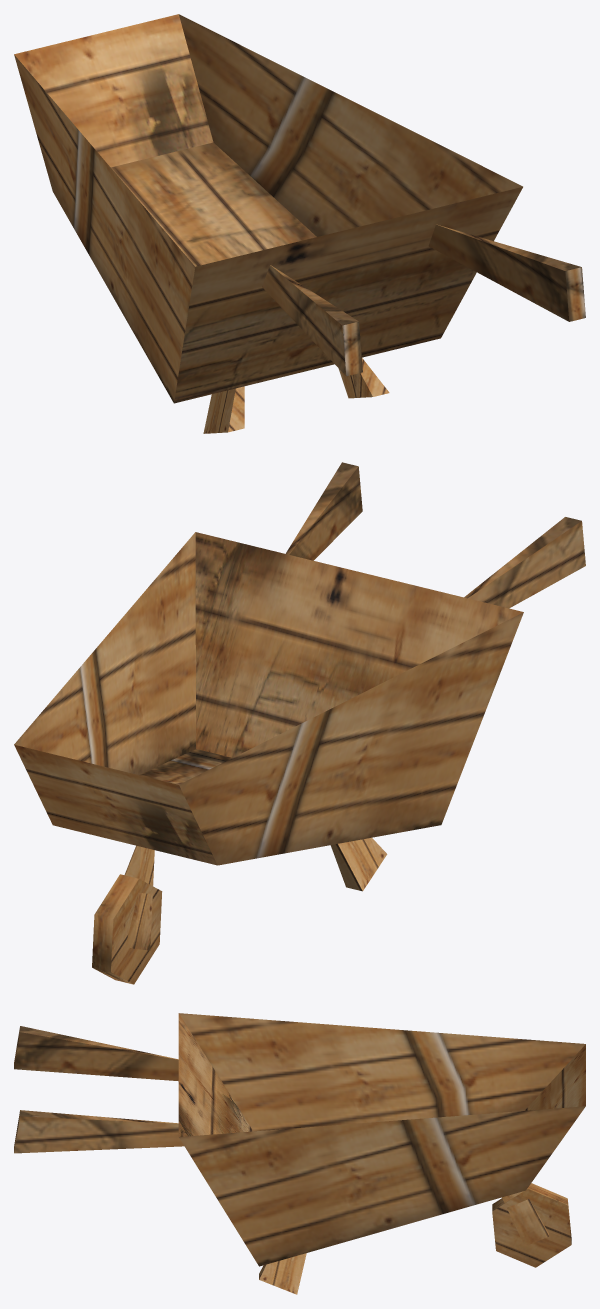
Rendered from cart.FBX.
The picture shows the model from 3 angles, top to bottom: view 1: azimuth 30°, elevation 25°; view 2: azimuth 150°, elevation 25°; view 3: azimuth 270°, elevation 25°; orthographic projection. The views are drawn at different scales.
Parts seen in each view (by area): view 1: cart; view 2: cart; view 3: cart.
Boxes of the visible parts, x1=… form: cart: x1=14, y1=14, x2=585, y2=433; cart: x1=14, y1=462, x2=585, y2=984; cart: x1=14, y1=1013, x2=585, y2=1294.
Bounding box in the file's own units: 29.95 × 21.72 × 58.4.
